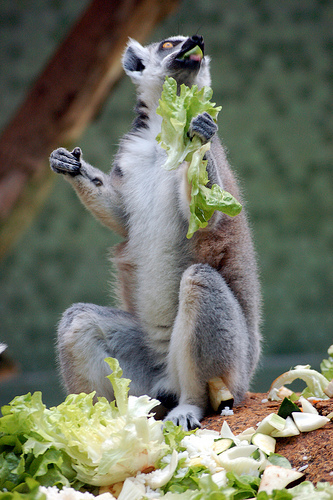cat: (45, 35, 261, 427)
